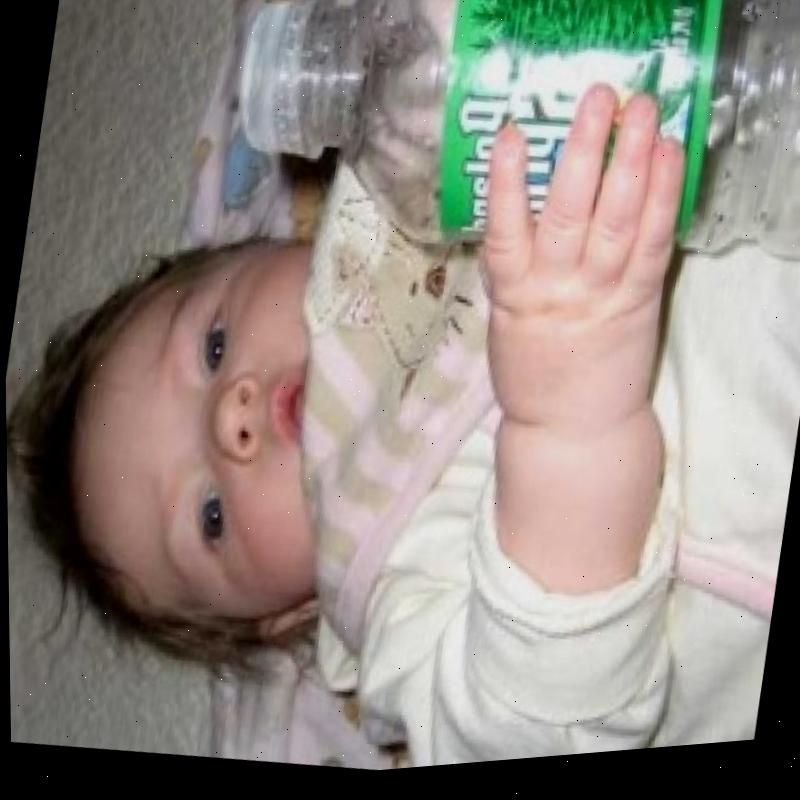botella: (214, 0, 800, 324)
